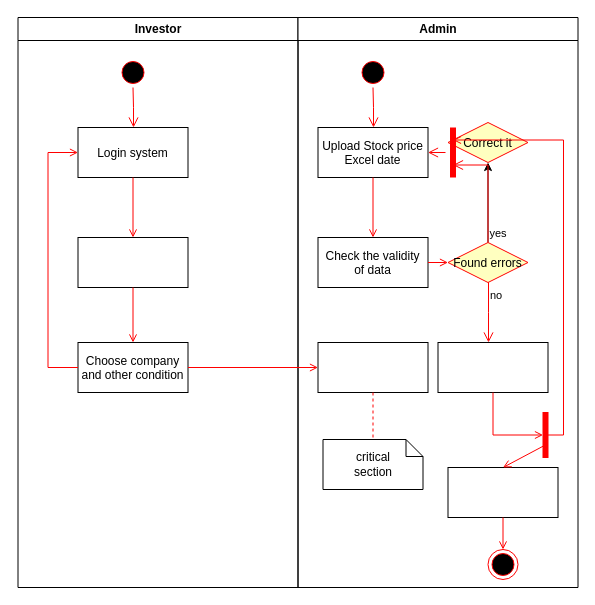
Image size: 595x605. Some labels were removed from this diagram. The shapes that lost their labels are listed below. From the top down, each one's centre as x and y in pixels, then its label:
pixel 132 262: Navigate to company comparision
pixel 372 367: Based on the stock price data to generate chart
pixel 492 367: Show summary message
pixel 502 492: Store in database
